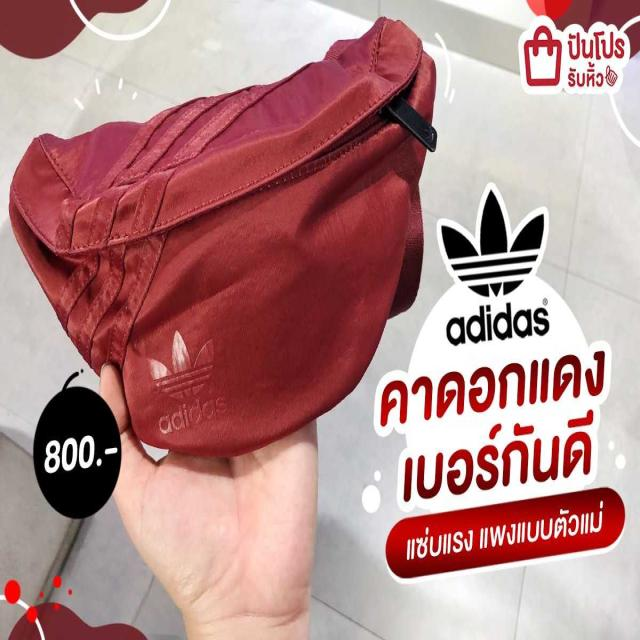handbag: (5, 14, 436, 456)
